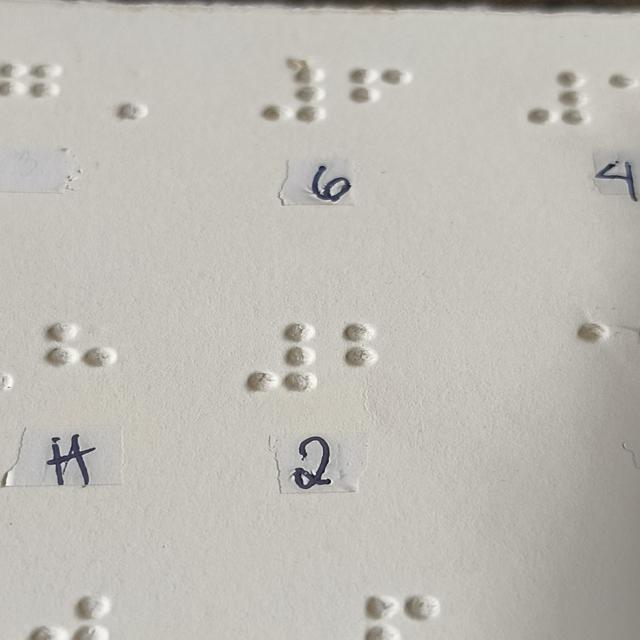digit_2: (345, 321, 415, 392)
digit_6: (347, 66, 415, 123)
letter_g: (0, 61, 58, 124)
letter_h: (48, 320, 117, 391)
number_sign: (246, 320, 315, 391), (259, 68, 326, 125), (525, 70, 592, 126)
